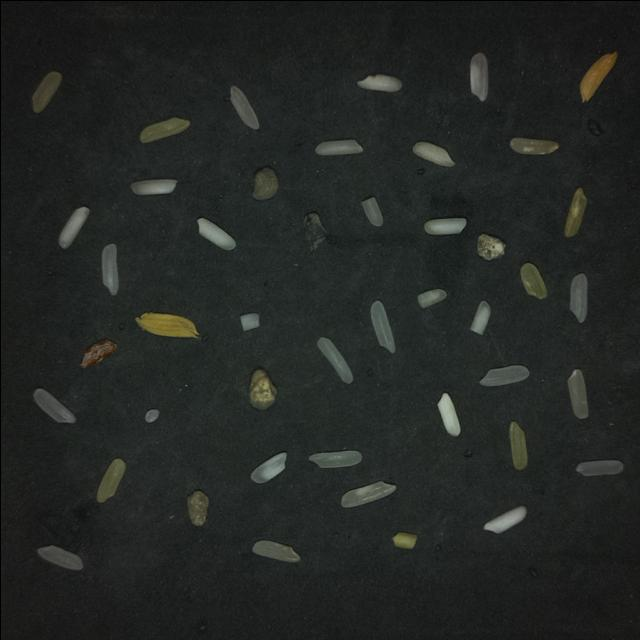broken: (32, 71, 62, 112), (36, 544, 82, 569), (250, 451, 286, 482), (251, 539, 299, 561), (38, 545, 82, 569), (570, 272, 587, 321), (510, 137, 558, 153), (131, 178, 177, 194), (470, 300, 490, 334), (361, 196, 383, 225), (418, 288, 447, 306), (391, 531, 416, 548), (240, 312, 259, 330), (145, 408, 159, 421)
chalky: (59, 206, 89, 248), (198, 217, 235, 249), (484, 505, 527, 532), (438, 392, 460, 435)
discolored: (140, 116, 190, 141), (96, 458, 124, 501), (565, 187, 586, 236), (521, 262, 547, 298), (510, 421, 527, 469)
foreign: (248, 368, 276, 409), (302, 211, 326, 251), (251, 166, 278, 199), (476, 232, 504, 259), (186, 490, 208, 524)
paddy: (575, 46, 619, 106), (136, 312, 199, 336)
red: (81, 339, 116, 367)
whole: (316, 336, 352, 383), (33, 387, 75, 422), (340, 481, 395, 507), (369, 299, 394, 352), (231, 85, 259, 128), (478, 364, 528, 386), (566, 368, 588, 418), (413, 141, 455, 166), (102, 243, 119, 295), (470, 52, 488, 100), (309, 450, 361, 466), (574, 458, 622, 475), (358, 74, 402, 91), (315, 139, 363, 154), (425, 217, 466, 234)
